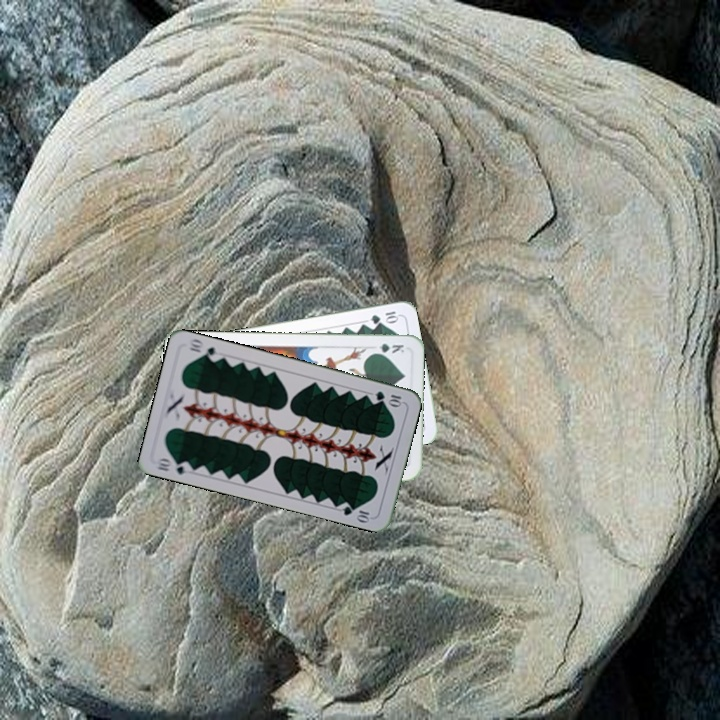G10: (153, 454, 194, 477), (371, 387, 405, 409), (367, 307, 401, 326)
GK: (367, 339, 407, 356)
